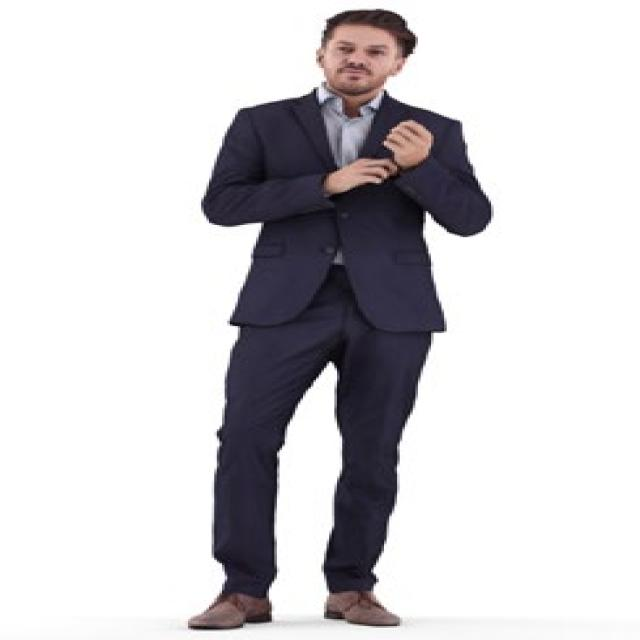standing: (175, 5, 498, 634)
